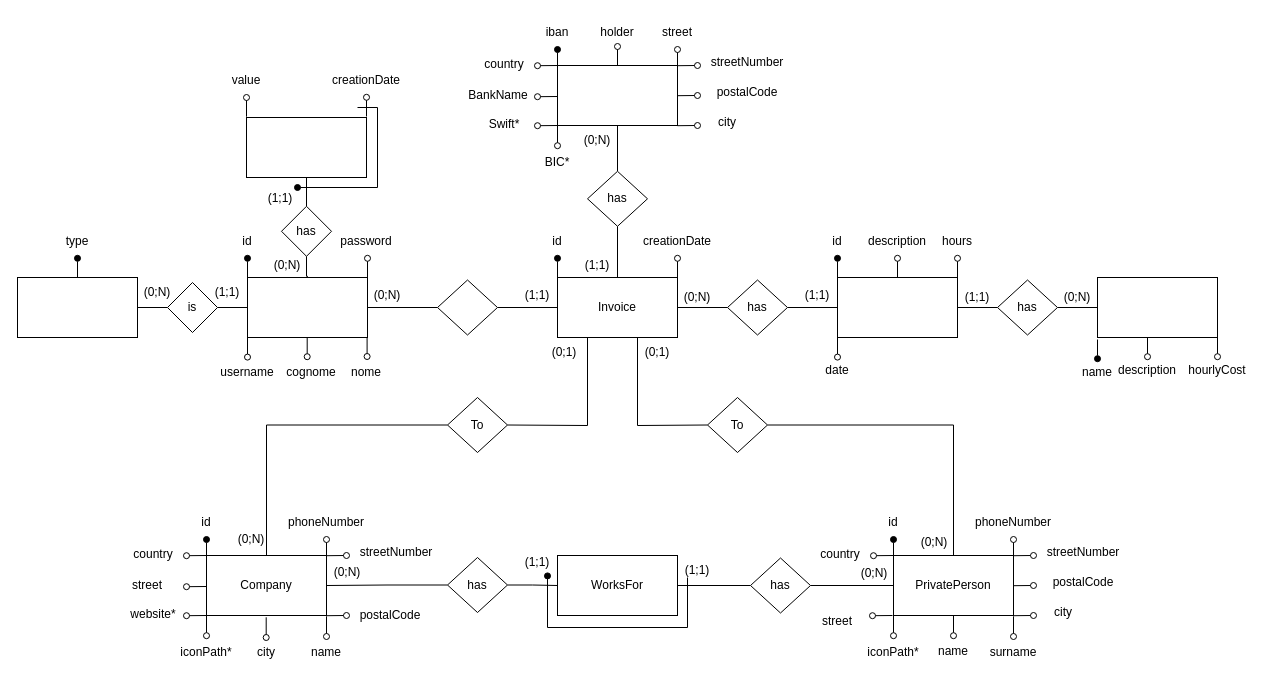
The diagram is 1265 pixels wide and 684 high, and some of its shapes have lost their labels. Each missing label, with the centre of its shape:
"BankAccount" goes at (617,95).
"creates" goes at (467,307).
"InvoiceTask" goes at (897,307).
"TaskType" goes at (1157,307).
"User" goes at (307,307).
"UserToken" goes at (306,147).
"UserType" goes at (77,307).
